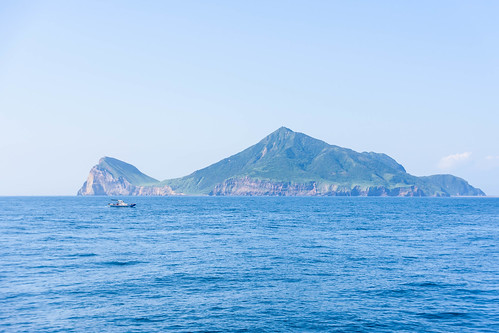turtleIslandLeft: (67, 120, 491, 209)
